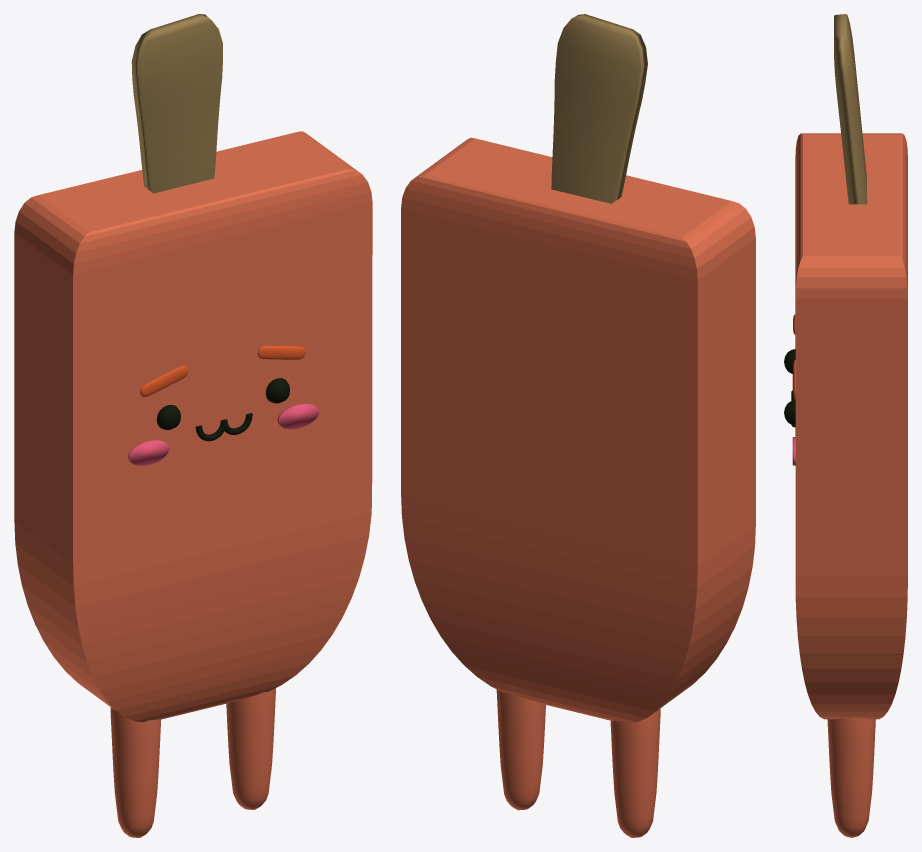
File: orange.glb
3 views of the same model, side by side, from view 1: azimuth 30°, elevation 25°; view 2: azimuth 150°, elevation 25°; view 3: azimuth 270°, elevation 25° (orthographic). The views are drawn at different scales.
Parts seen in each view (by area): view 1: body, bar, legs, chick, eyebrow, eyes; view 2: body, bar, legs; view 3: body, legs, bar, eyes.
Boxes of the visible parts, x1,y1,x2,y2 form: body: [14, 131, 372, 722]; bar: [131, 14, 222, 193]; legs: [110, 688, 275, 837]; chick: [128, 403, 318, 465]; eyebrow: [140, 345, 305, 396]; eyes: [156, 378, 289, 429]; body: [401, 137, 755, 723]; bar: [551, 14, 647, 203]; legs: [496, 689, 660, 837]; body: [795, 133, 907, 719]; legs: [827, 718, 875, 837]; bar: [834, 14, 867, 204]; eyes: [784, 349, 795, 425].
Bounding box in the file's own units: 2 × 5.18 × 0.7481.
